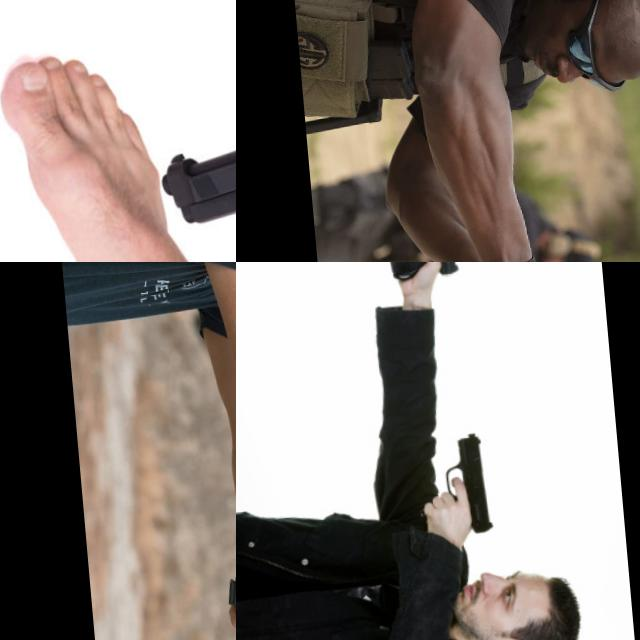handgun: (144, 64, 236, 262), (439, 429, 495, 540), (378, 262, 460, 316)
